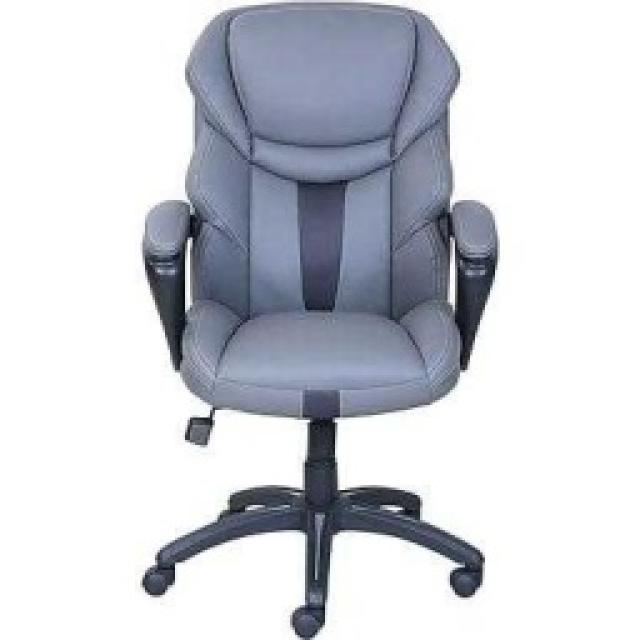sandalye: (138, 0, 498, 638)
